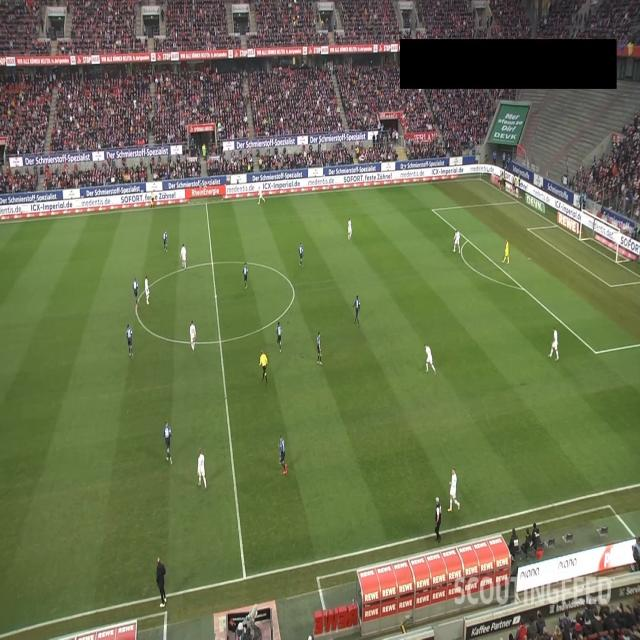ball: (452, 248, 456, 254)
